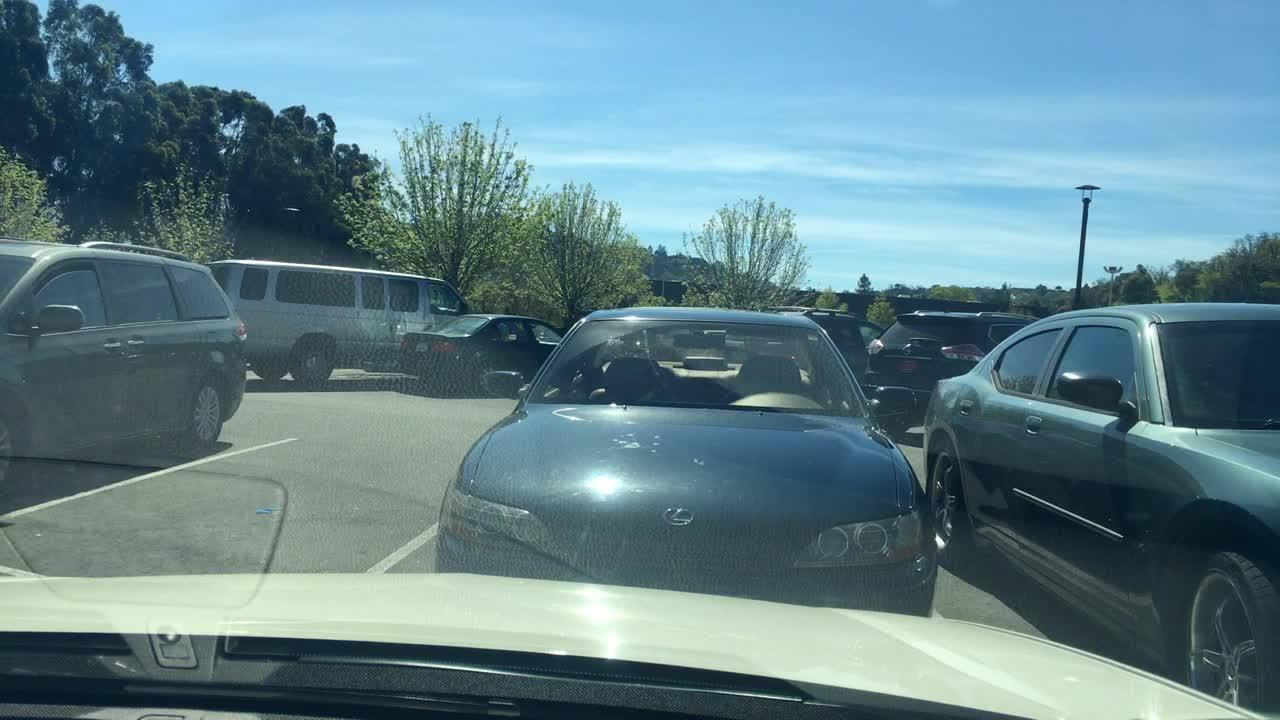lexus: (658, 503, 703, 533)
